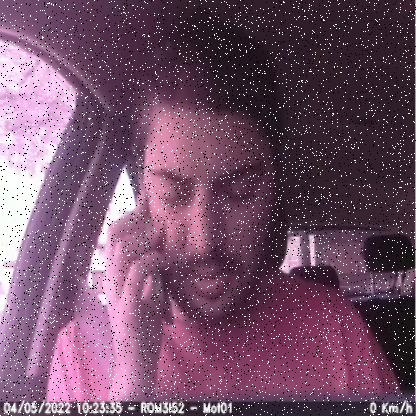phone: (119, 170, 183, 338)
